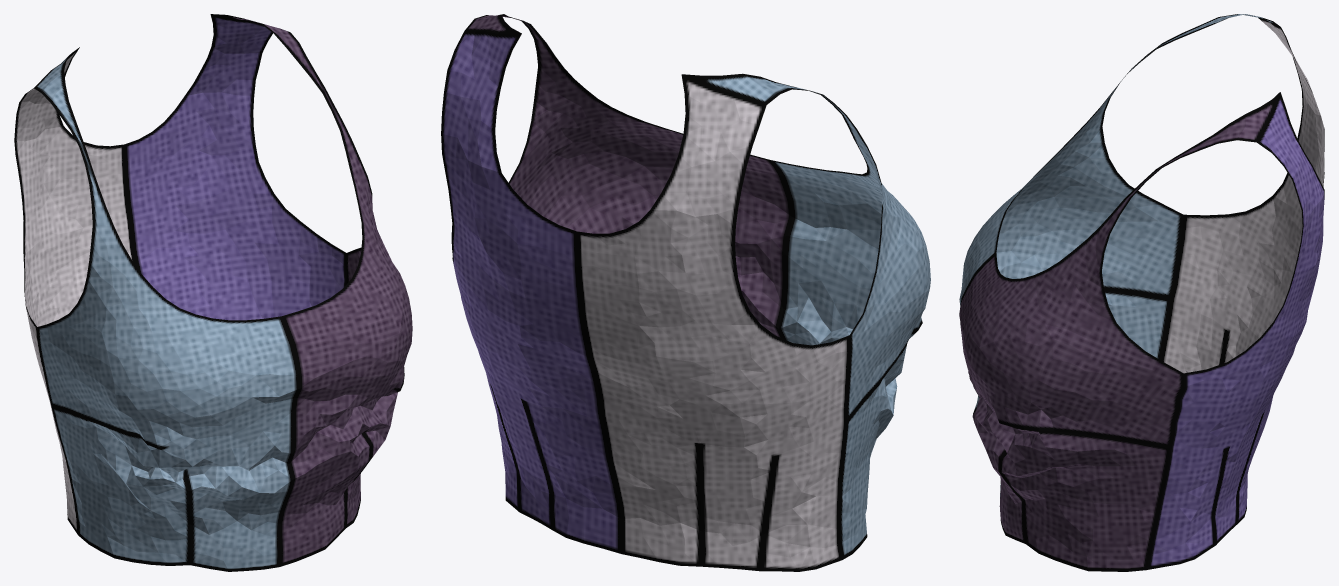
The model's file is tank_tight10v_sim.obj.
The picture shows the model from 3 angles, left to right: view 1: azimuth 30°, elevation 25°; view 2: azimuth 150°, elevation 25°; view 3: azimuth 270°, elevation 25°; orthographic projection. The views are drawn at different scales.
Bounding box in the file's own units: 21.27 × 28.77 × 20.86.
Materials: 1 (1 with a texture image).
